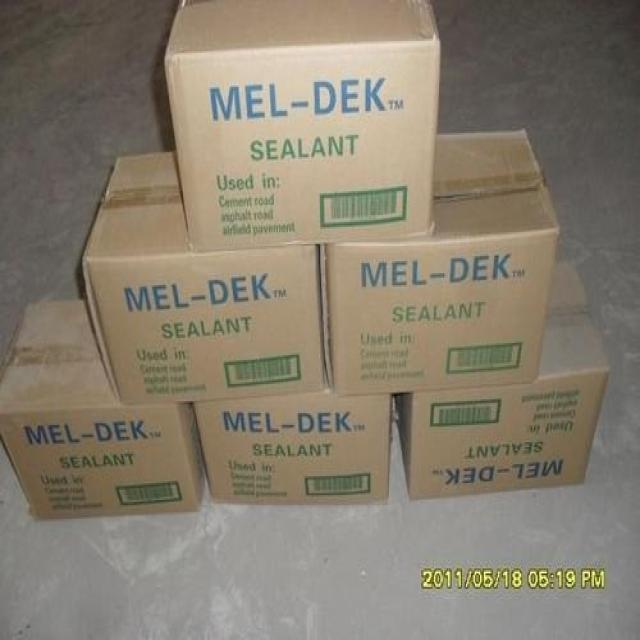box: (164, 0, 441, 251), (319, 129, 561, 396), (81, 152, 325, 406), (394, 260, 611, 499), (0, 299, 206, 520), (193, 372, 389, 503)
